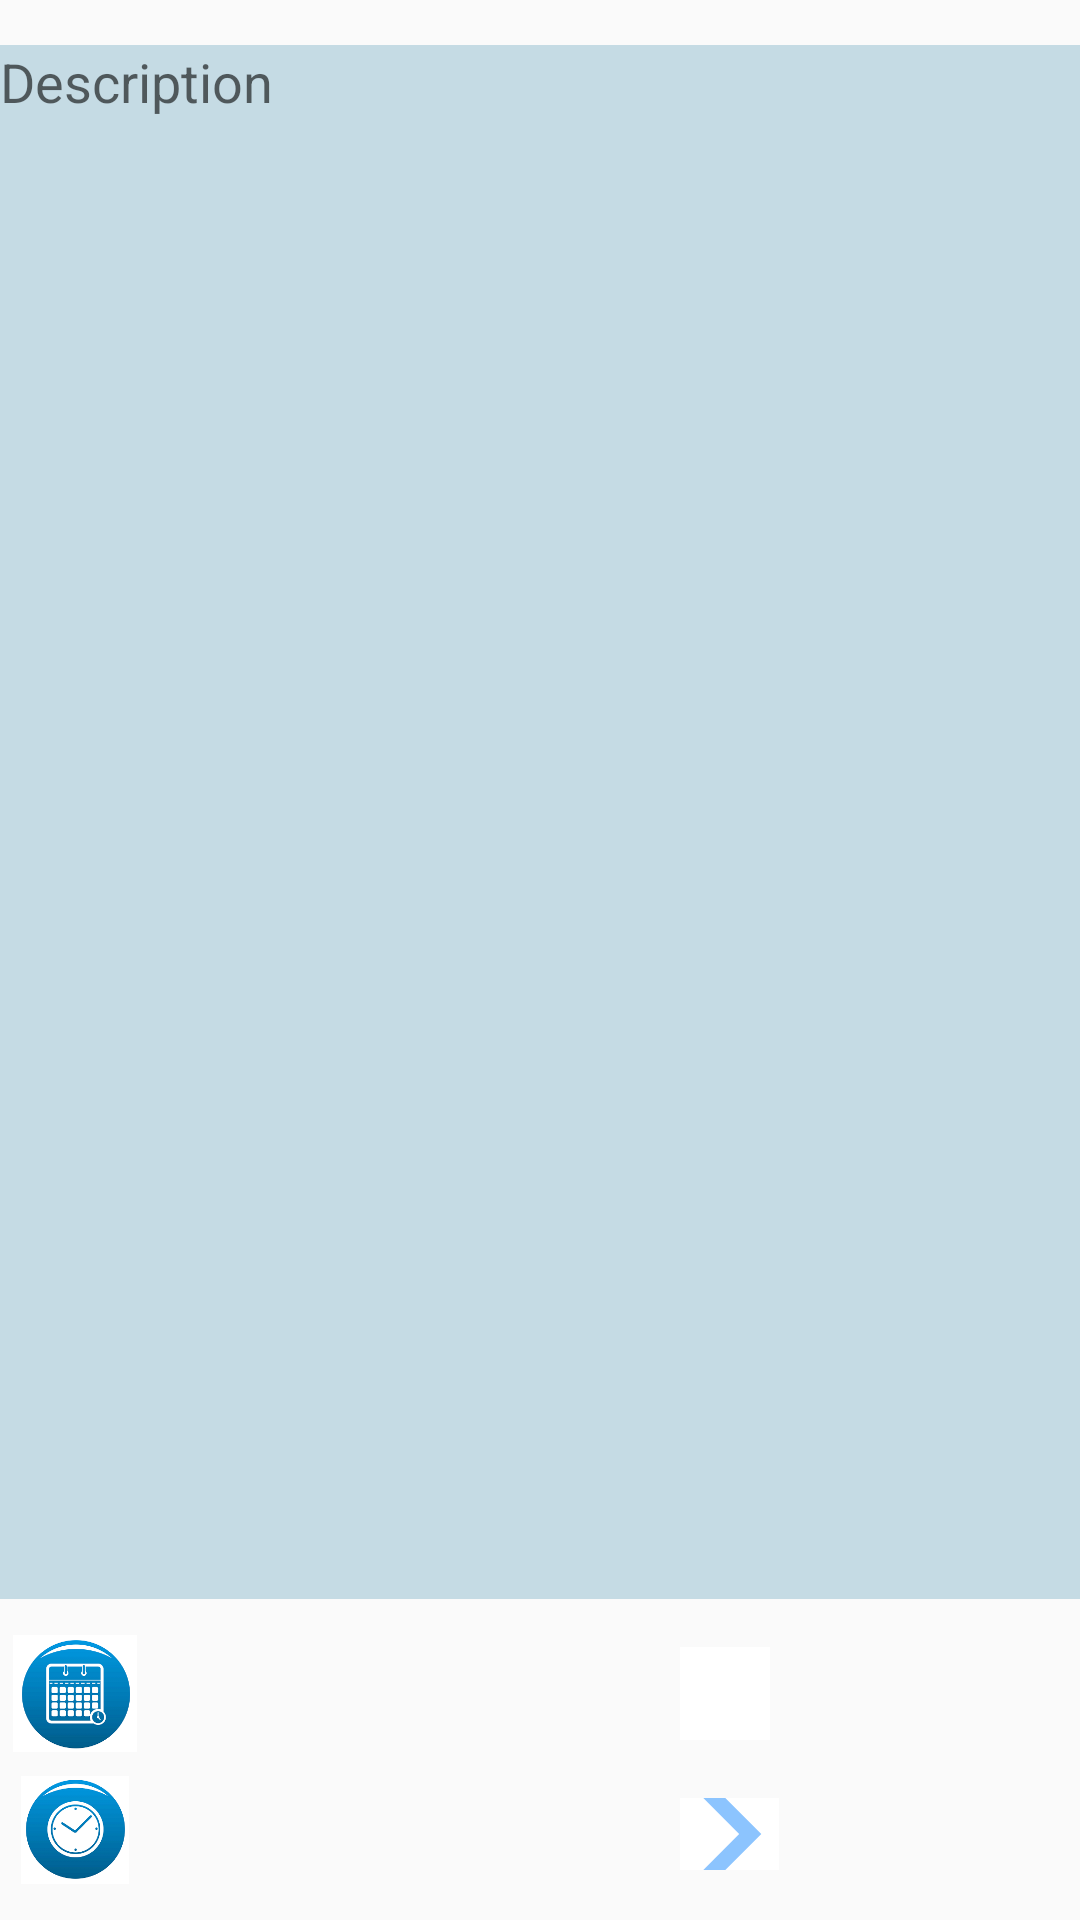

Screen size 1080 x 1920. Icon name, then its box in pixels as rect(x1, y1, x2, y2):
calender: rect(22, 1640, 130, 1749)
clock: rect(26, 1780, 125, 1879)
tnext: rect(704, 1798, 761, 1870)
